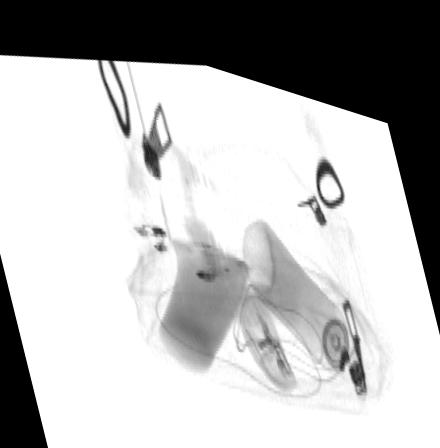Lighter: (247, 265, 299, 379)
Sprayer: (243, 207, 374, 399)
